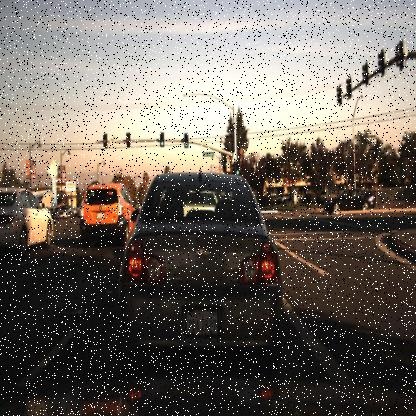car: (104, 166, 296, 364), (69, 170, 140, 253), (0, 168, 53, 270), (77, 178, 145, 250), (320, 182, 375, 222), (8, 186, 46, 223), (54, 200, 74, 222)
trafficLight: (124, 132, 132, 155), (102, 129, 110, 150), (159, 129, 167, 148)
trafficLight-Green: (178, 129, 192, 161), (233, 160, 241, 185), (156, 132, 164, 154), (234, 160, 242, 178)
trafficLight-Red: (182, 132, 189, 152)
trafficLight-RedLeft: (100, 130, 110, 156)
